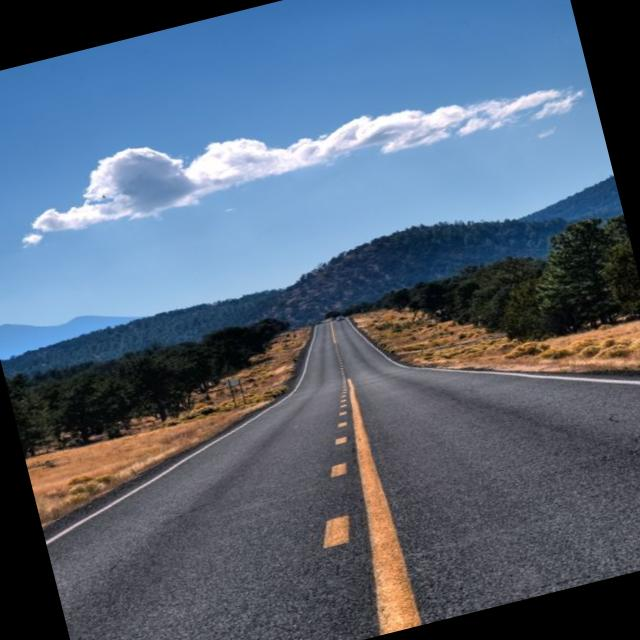asphalt: (42, 318, 640, 640)
